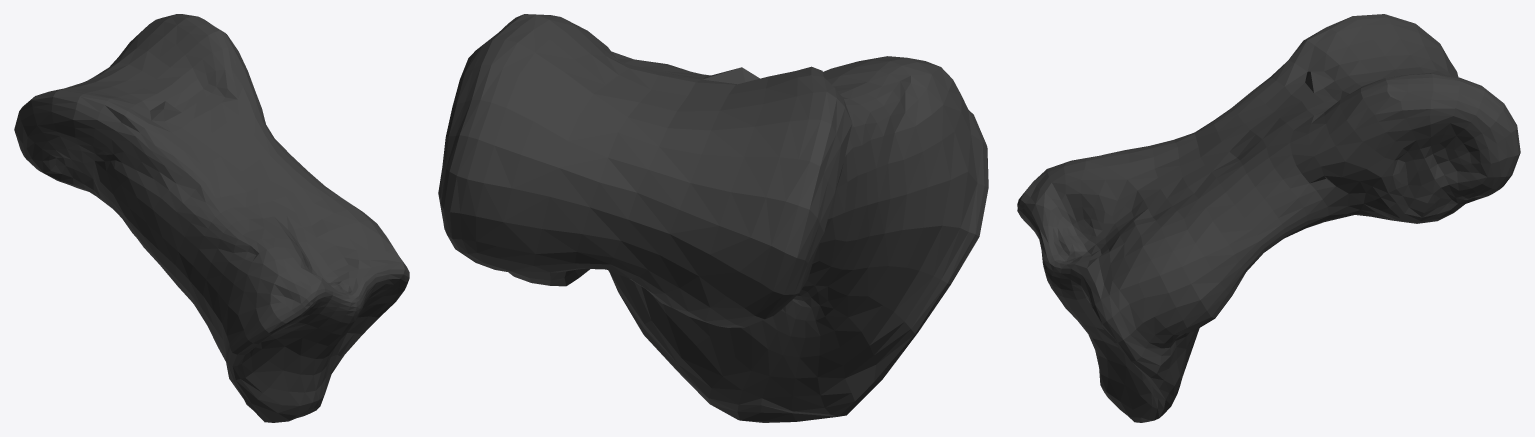
File: Middle_phalange_3.glb
3 renders of one model, left to right at view 1: azimuth 30°, elevation 25°; view 2: azimuth 150°, elevation 25°; view 3: azimuth 270°, elevation 25°, orthographic. The views are drawn at different scales.
Parts seen in each view (by area): view 1: Middle_phalange_3; view 2: Middle_phalange_3; view 3: Middle_phalange_3.
Boxes of the visible parts, bbox=[...] form: Middle_phalange_3: bbox=[14, 14, 409, 422]; Middle_phalange_3: bbox=[438, 14, 988, 422]; Middle_phalange_3: bbox=[1017, 14, 1520, 422].
Size of the model in its own units: 0.1366 by 0.1551 by 0.202.
Materials: 1 (1 with a texture image).
